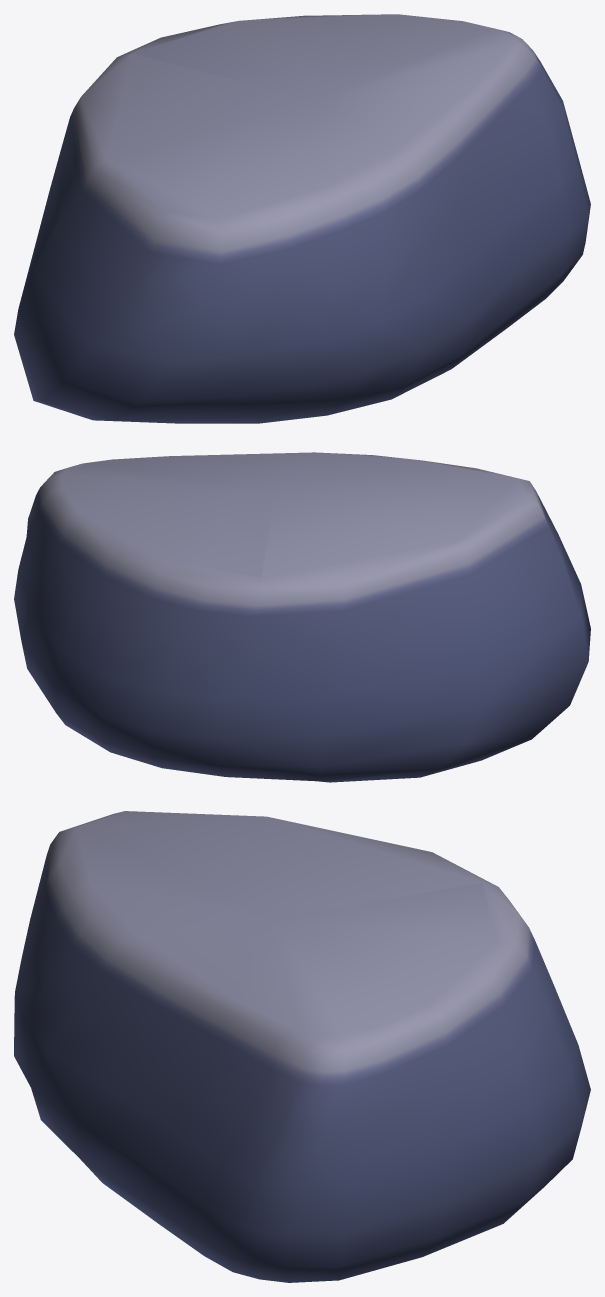
The model's file is block_rock_1_2.fbx.
3 renders of one model, top to bottom at view 1: azimuth 30°, elevation 25°; view 2: azimuth 150°, elevation 25°; view 3: azimuth 270°, elevation 25°, orthographic. The views are drawn at different scales.
Visible parts, largest first — view 1: block_rock_1_2; view 2: block_rock_1_2; view 3: block_rock_1_2.
Part boxes in pixels (<box>): block_rock_1_2: <box>14,14,590,423</box>; block_rock_1_2: <box>14,452,590,782</box>; block_rock_1_2: <box>14,811,590,1282</box>.
Bounding box in the file's own units: 114 × 45.38 × 92.54.
